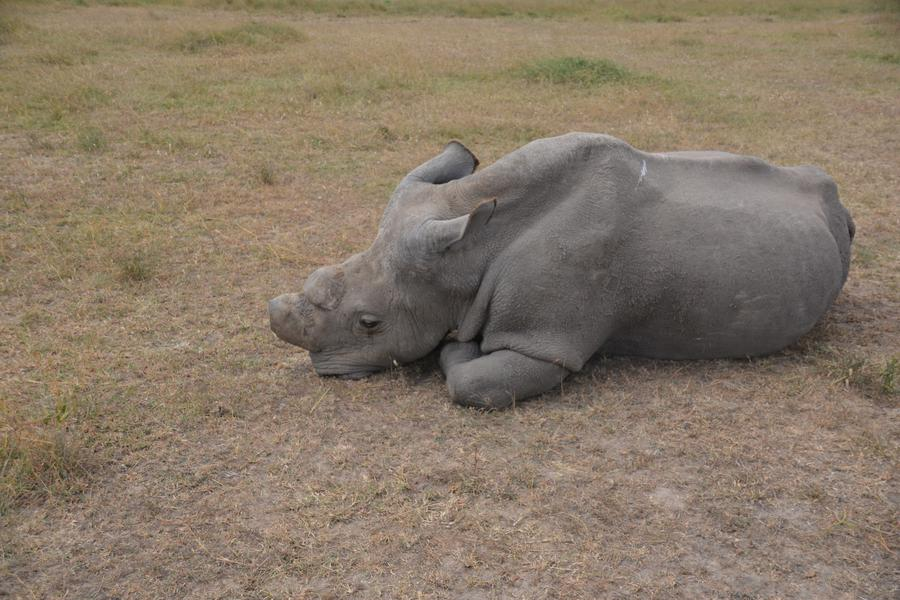rhino: (304, 111, 868, 408)
